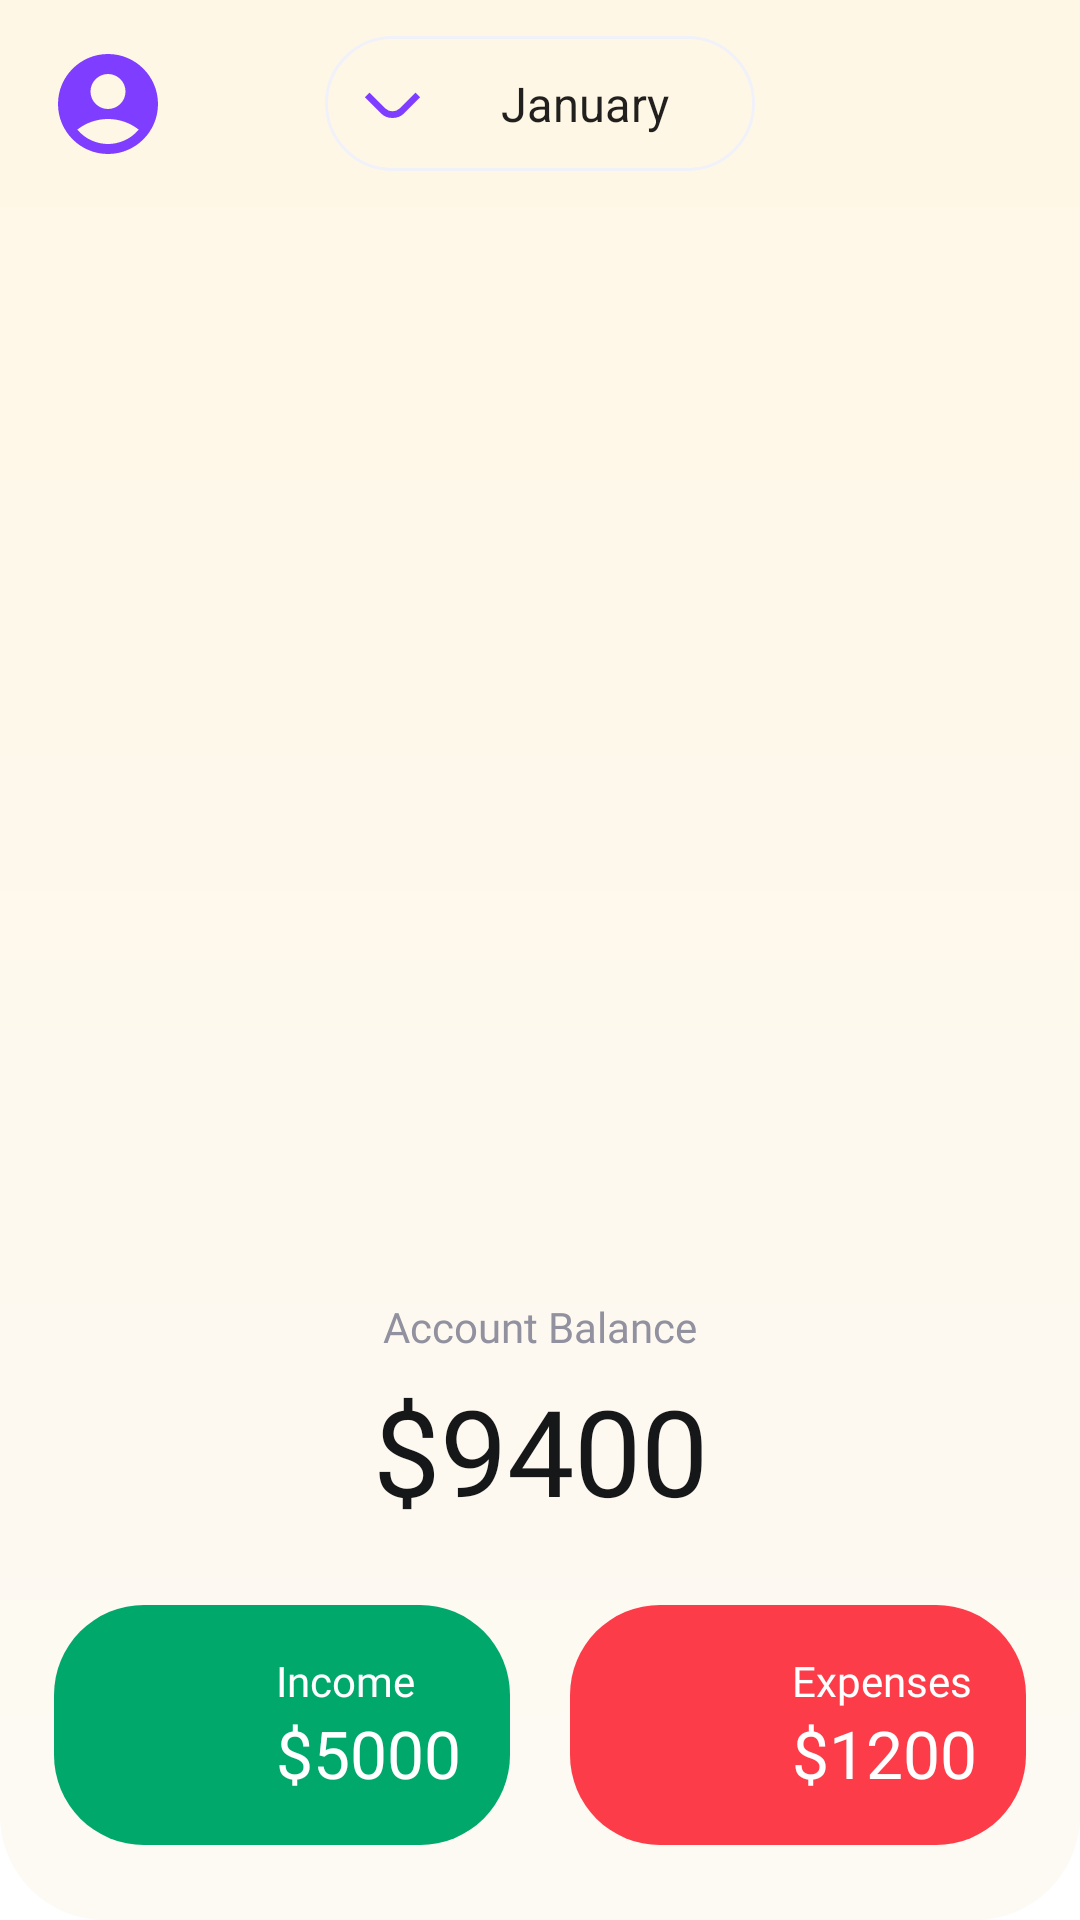

Screen size 1080×1920. Icon name, then its center in pixels as (x,y):
down chevron: (392,105)
profile toolbar: (108,104)
